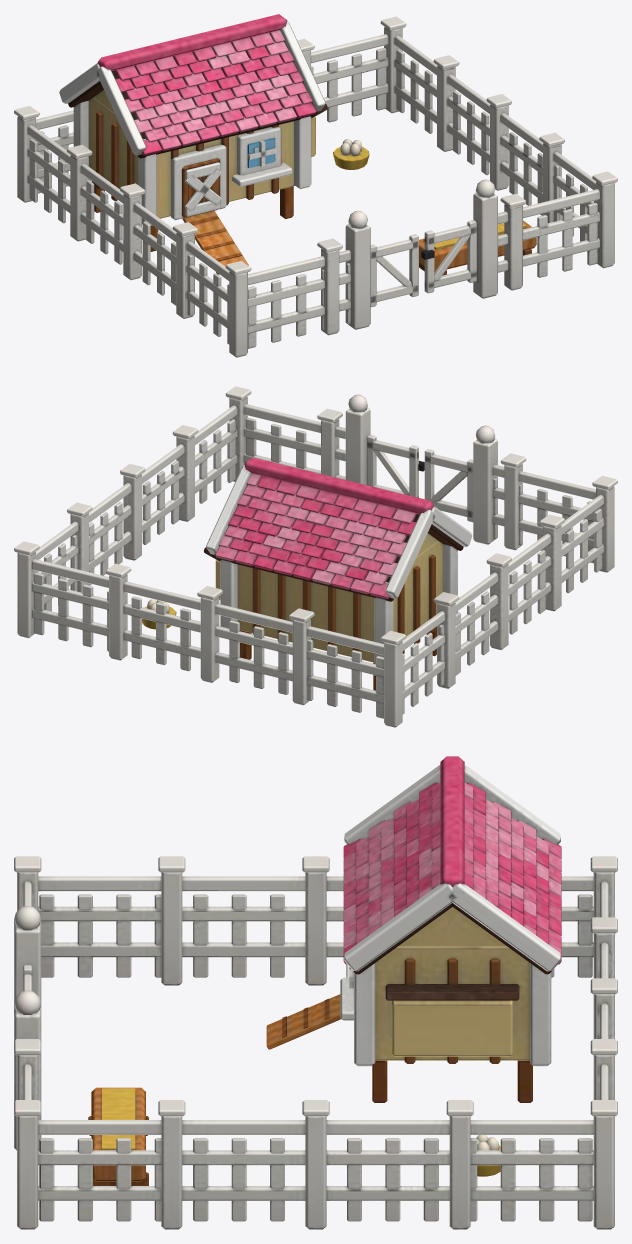
Rendered from silkie_coop.glb.
The picture shows the model from 3 angles, top to bottom: view 1: azimuth 30°, elevation 25°; view 2: azimuth 150°, elevation 25°; view 3: azimuth 270°, elevation 25°; orthographic projection. The views are drawn at different scales.
Visible parts, largest first — view 1: silkie_coop, gate1, gate0; view 2: silkie_coop, gate0, gate1; view 3: silkie_coop.
Boxes of the visible parts, bbox=[...] form: silkie_coop: bbox=[14, 14, 617, 357]; gate1: bbox=[421, 220, 476, 293]; gate0: bbox=[370, 234, 418, 307]; silkie_coop: bbox=[14, 386, 617, 727]; gate0: bbox=[424, 449, 473, 522]; gate1: bbox=[366, 434, 424, 497]; silkie_coop: bbox=[14, 756, 617, 1229].
Size of the model in its own units: 1.99 by 0.8814 by 1.99.
Materials: 1 (1 with a texture image).
